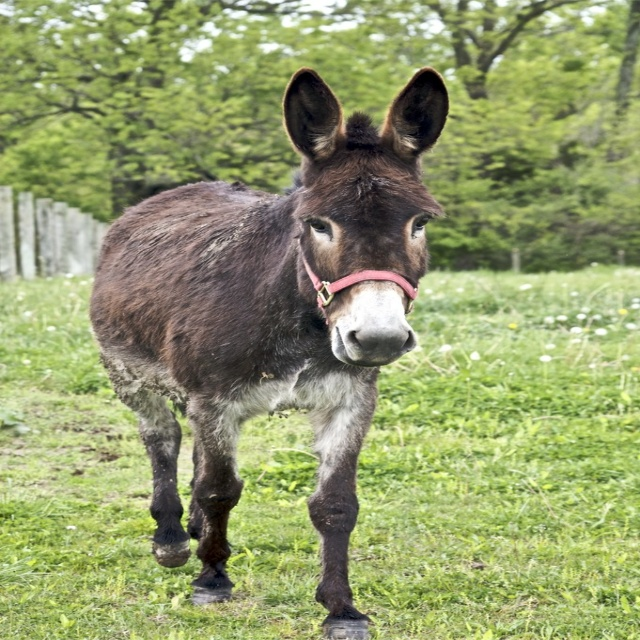Mule: (87, 68, 453, 640)
